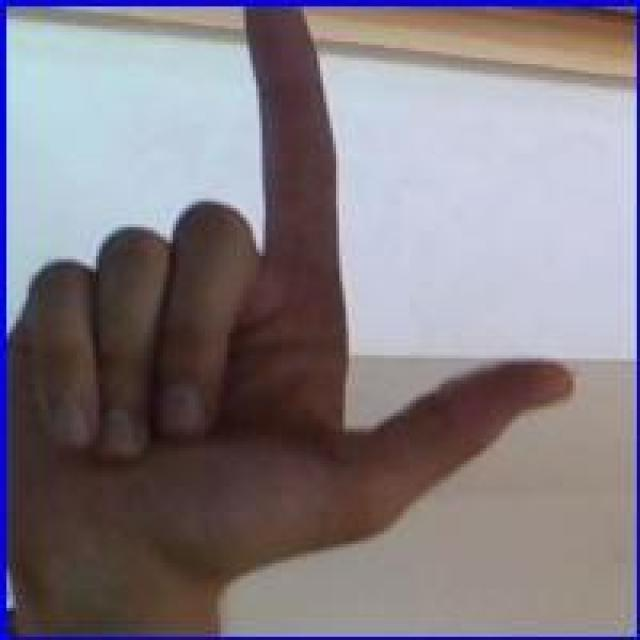L: (10, 7, 576, 614)
